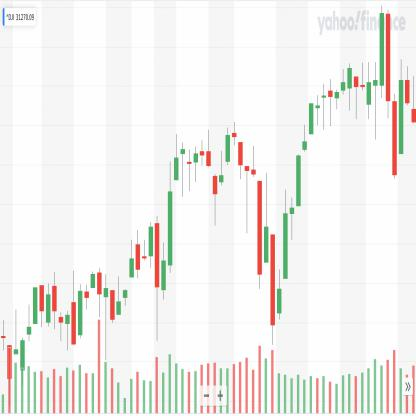Bearish: Engulfing: (148, 212, 160, 344)
Bearish: Evening Star Doji: (224, 118, 244, 182)
Bearish: Tweezer Top: (378, 3, 392, 122)
